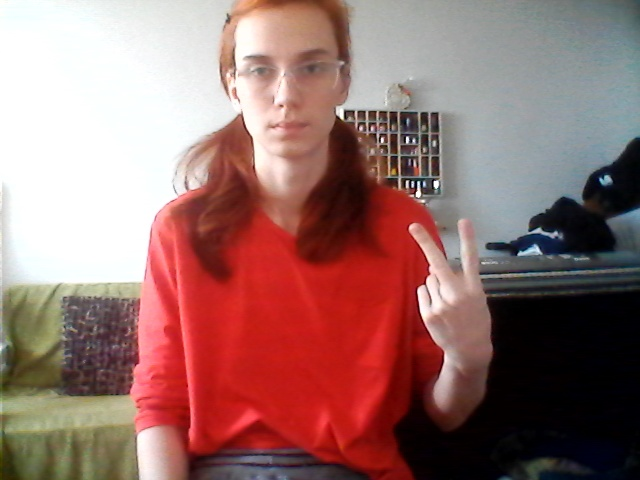v: (395, 216, 506, 363)
